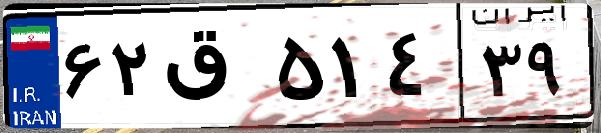1: (330, 28, 385, 110)
2: (110, 28, 158, 98)
3: (475, 38, 525, 113)
4: (385, 28, 445, 110)
5: (270, 28, 330, 110)
6: (57, 26, 110, 100)
9: (525, 38, 570, 115)
ق: (158, 20, 270, 120)
